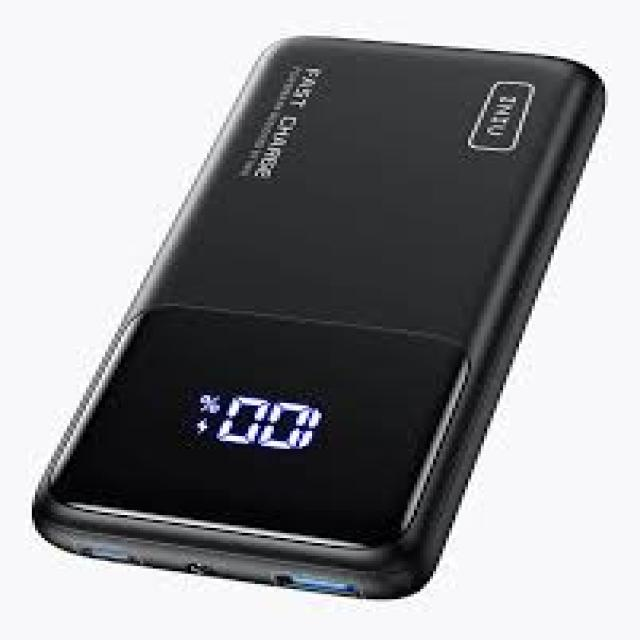power_bank: (19, 35, 613, 602)
